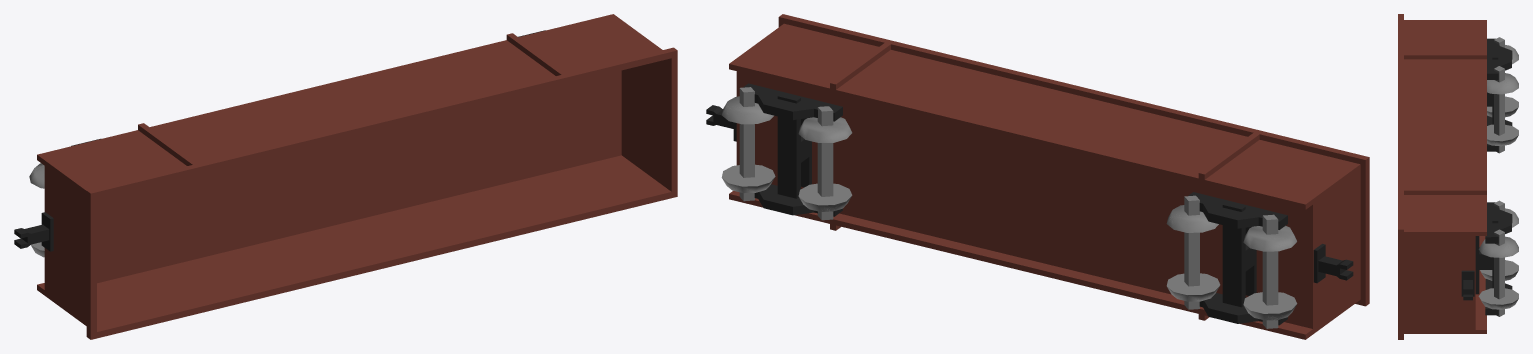
File: gondola_car_48.7ft.dae
3 renders of one model, left to right at view 1: azimuth 30°, elevation 25°; view 2: azimuth 150°, elevation 25°; view 3: azimuth 270°, elevation 25°, orthographic. The views are drawn at different scales.
Parts seen in each view (by area): view 1: coords_ME_ID27_MA_Gondola, coords_ME_ID19_MA_Gondola, coords_ME_ID4_MA_Coupler; view 2: coords_ME_ID19_MA_Gondola, coords_ME_ID146_MA_Frame, coords_ME_ID87_MA_Frame, coords_ME_ID152_MA_Frame, coords_ME_ID95_MA_Frame, coords_ME_ID127_MA_Wheels, coords_ME_ID68_MA_Wheels, coords_ME_ID121_MA_Wheels, coords_ME_ID62_MA_Wheels, coords_ME_ID133_MA_Wheels, coords_ME_ID109_MA_Wheels, coords_ME_ID48_MA_Wheels (+8 smaller); view 3: coords_ME_ID19_MA_Gondola, coords_ME_ID95_MA_Frame, coords_ME_ID152_MA_Frame, coords_ME_ID62_MA_Wheels, coords_ME_ID121_MA_Wheels, coords_ME_ID48_MA_Wheels, coords_ME_ID87_MA_Frame, coords_ME_ID80_MA_Wheels, coords_ME_ID109_MA_Wheels, coords_ME_ID139_MA_Wheels, coords_ME_ID74_MA_Wheels, coords_ME_ID133_MA_Wheels (+7 smaller).
Boxes of the visible parts, x1,y1,x2,y2 form: coords_ME_ID27_MA_Gondola: (97,58,671,331); coords_ME_ID19_MA_Gondola: (37,14,677,339); coords_ME_ID4_MA_Coupler: (14,224,49,248); coords_ME_ID19_MA_Gondola: (729,14,1369,339); coords_ME_ID146_MA_Frame: (1222,202,1256,307); coords_ME_ID87_MA_Frame: (777,93,811,198); coords_ME_ID152_MA_Frame: (1188,192,1287,229); coords_ME_ID95_MA_Frame: (743,83,842,121); coords_ME_ID127_MA_Wheels: (1262,214,1278,328); coords_ME_ID68_MA_Wheels: (817,106,833,220); coords_ME_ID121_MA_Wheels: (1184,195,1199,309); coords_ME_ID62_MA_Wheels: (739,87,754,201); coords_ME_ID133_MA_Wheels: (1243,292,1297,320); coords_ME_ID109_MA_Wheels: (1166,273,1220,301); coords_ME_ID48_MA_Wheels: (721,164,775,193); coords_ME_ID19_MA_Gondola: (1398,14,1486,339); coords_ME_ID95_MA_Frame: (1485,202,1512,243); coords_ME_ID152_MA_Frame: (1487,38,1512,79); coords_ME_ID62_MA_Wheels: (1494,229,1504,316); coords_ME_ID121_MA_Wheels: (1494,66,1504,153); coords_ME_ID48_MA_Wheels: (1478,288,1518,309); coords_ME_ID87_MA_Frame: (1475,214,1498,294); coords_ME_ID80_MA_Wheels: (1478,236,1518,257); coords_ME_ID109_MA_Wheels: (1487,124,1518,146); coords_ME_ID139_MA_Wheels: (1487,73,1518,94); coords_ME_ID74_MA_Wheels: (1480,260,1518,280); coords_ME_ID133_MA_Wheels: (1487,96,1518,117).
Bounding box in the file's own units: 148 × 32.31 × 32.09.
